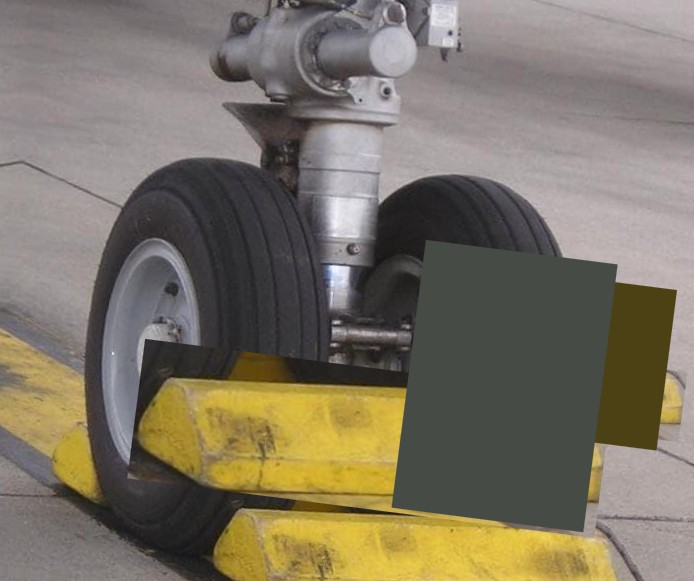chock: (127, 339, 612, 538), (203, 475, 625, 581), (446, 343, 687, 442)
wheel: (59, 144, 345, 568), (322, 161, 607, 539)
